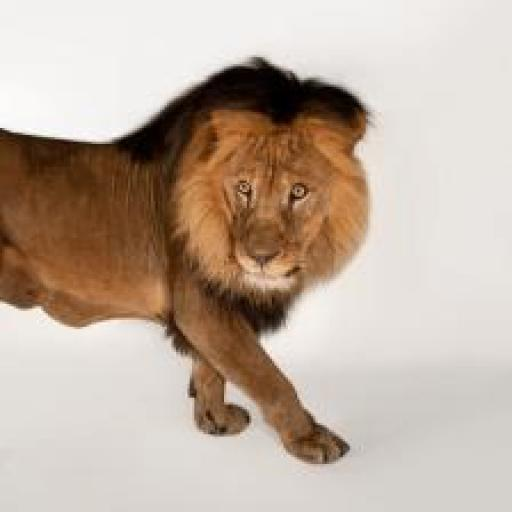lion: (0, 55, 376, 465)
